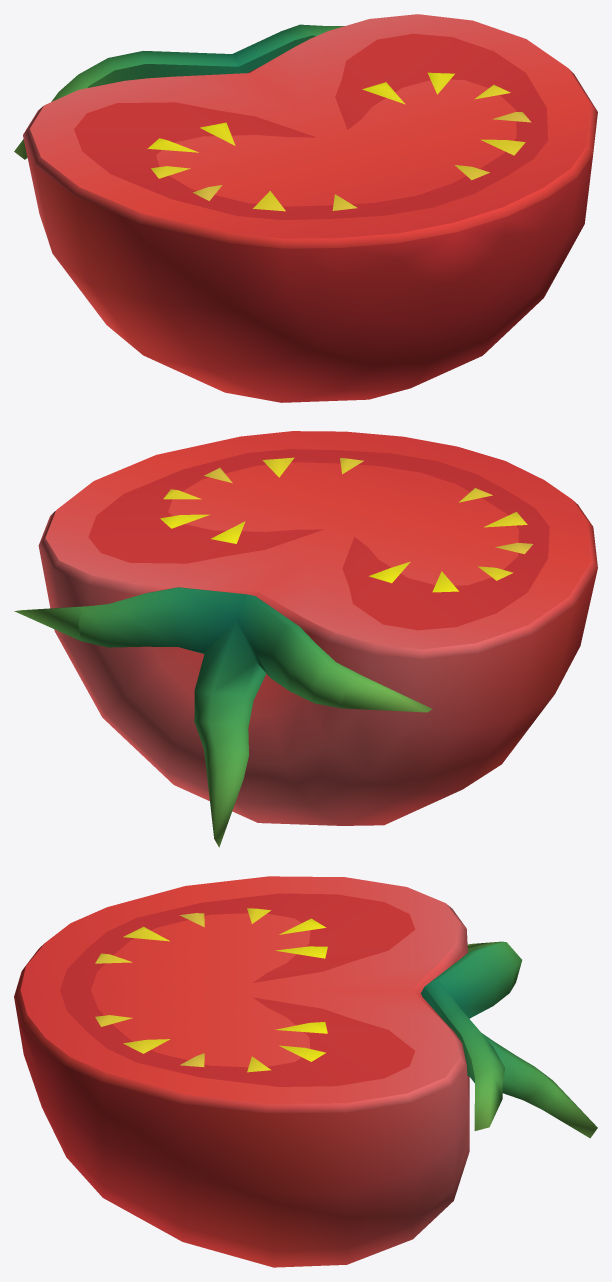
File: tomato_002.fbx
3 renders of one model, top to bottom at view 1: azimuth 30°, elevation 25°; view 2: azimuth 150°, elevation 25°; view 3: azimuth 270°, elevation 25°, orthographic. The views are drawn at different scales.
Parts seen in each view (by area): view 1: tomato_002; view 2: tomato_002; view 3: tomato_002.
Part boxes in pixels (left/top/right/bottom): tomato_002: left=14, top=14, right=597, bottom=402; tomato_002: left=14, top=431, right=597, bottom=847; tomato_002: left=14, top=876, right=597, bottom=1267.
Size of the model in its own units: 8.09 by 4.23 by 8.57.
